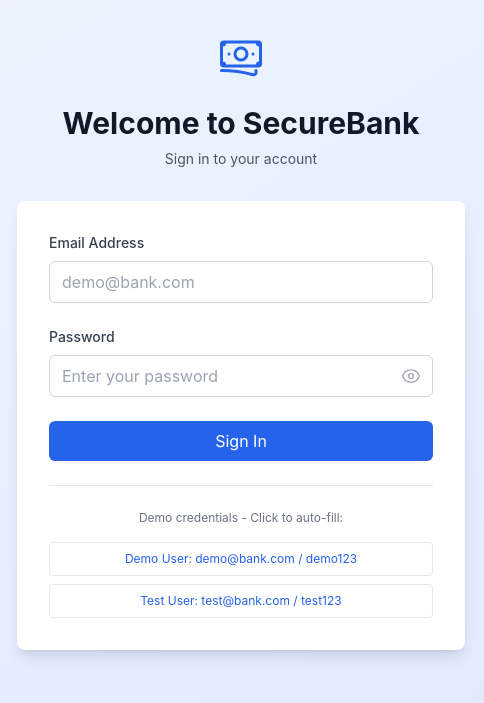
Scenario: Login › displays validation errors for empty fields
Step 1. Click the button "Sign In" → (241, 440), box [49,420,433,460]
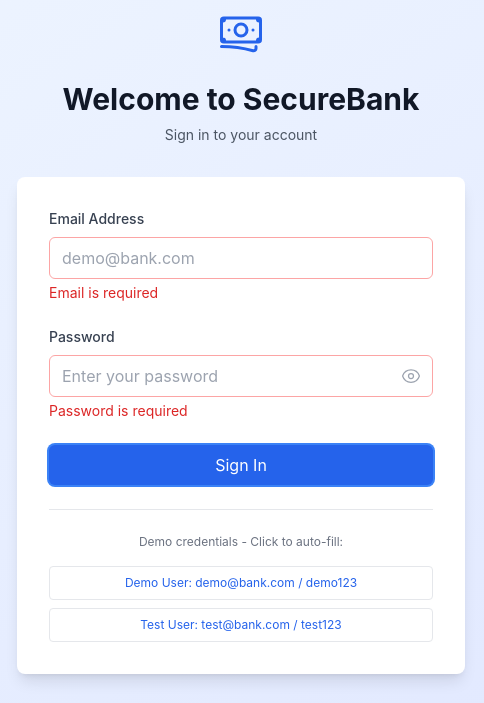
Expected: the text "Email is required" is shown, [49,284,158,300]
Expected: the text "Password is required" is shown, [49,402,188,418]
